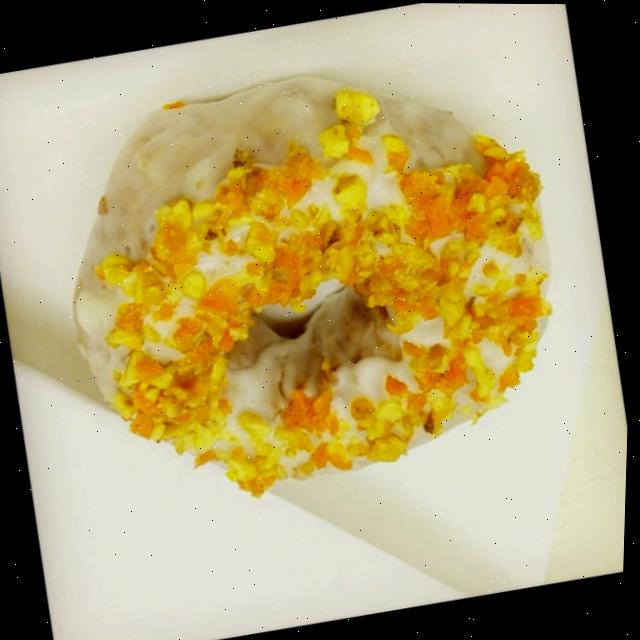炸货点心: (13, 31, 600, 555)
